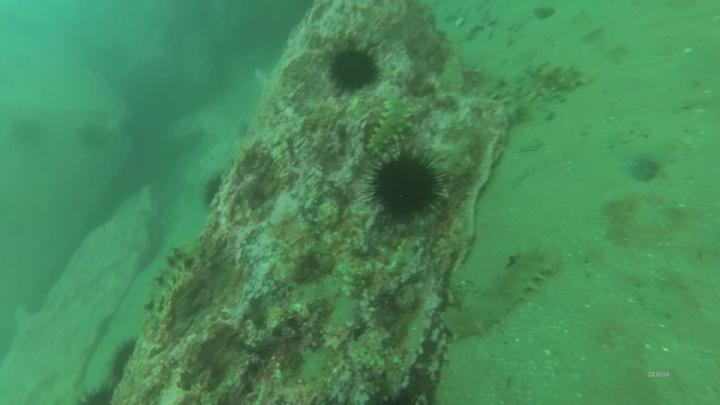echinus: (361, 145, 453, 226), (327, 40, 389, 101)
holothurian: (441, 248, 552, 342), (144, 238, 207, 320), (372, 95, 418, 155), (527, 58, 591, 97)
